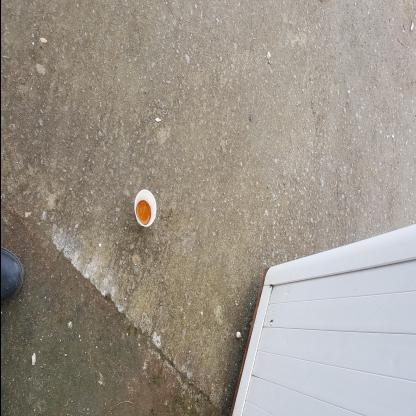karton: (188, 260, 227, 283)
